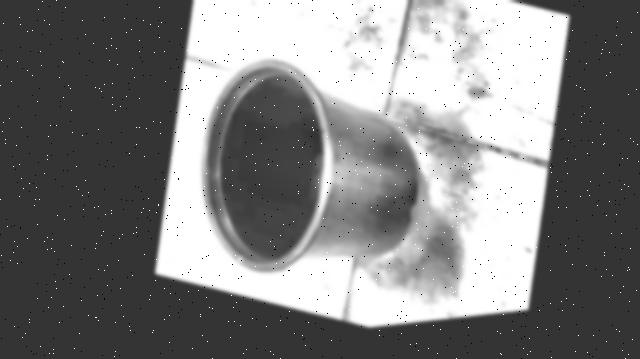pot: (202, 58, 418, 272)
